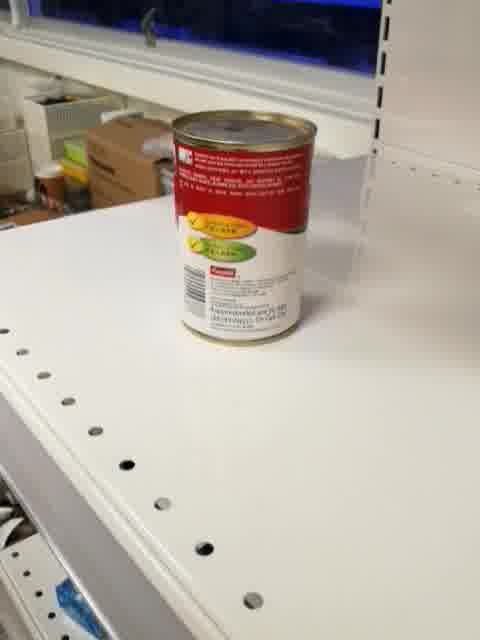tomatosoup: (169, 106, 320, 350)
